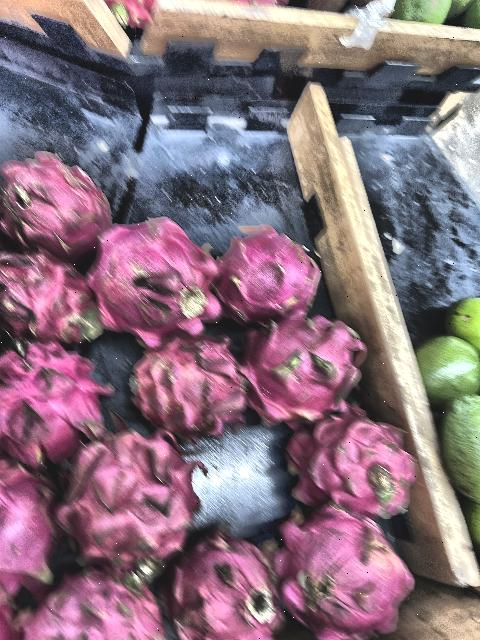buah-naga-matang: (68, 430, 204, 580), (275, 510, 421, 636), (238, 315, 372, 431), (100, 220, 222, 342), (284, 418, 422, 524), (2, 340, 110, 468), (123, 335, 253, 437), (0, 142, 110, 254), (178, 536, 284, 640), (222, 217, 320, 319), (0, 252, 102, 348)
